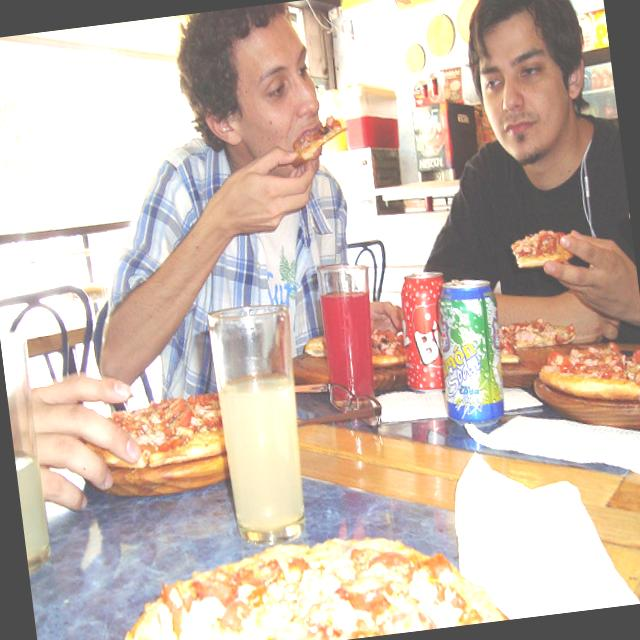Vehicle: (0, 239, 41, 281)
